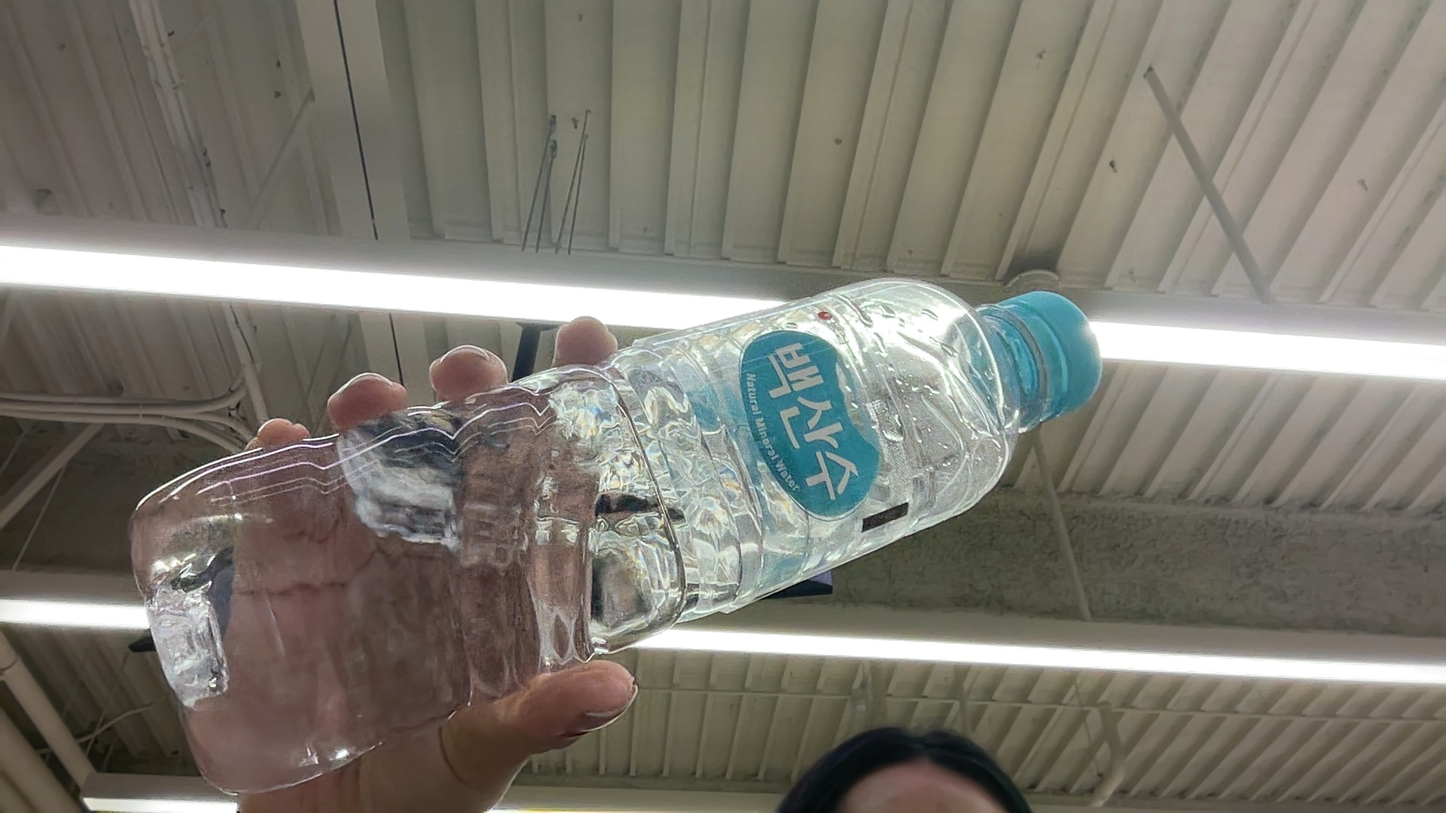Plastic: (326, 372, 405, 426)
